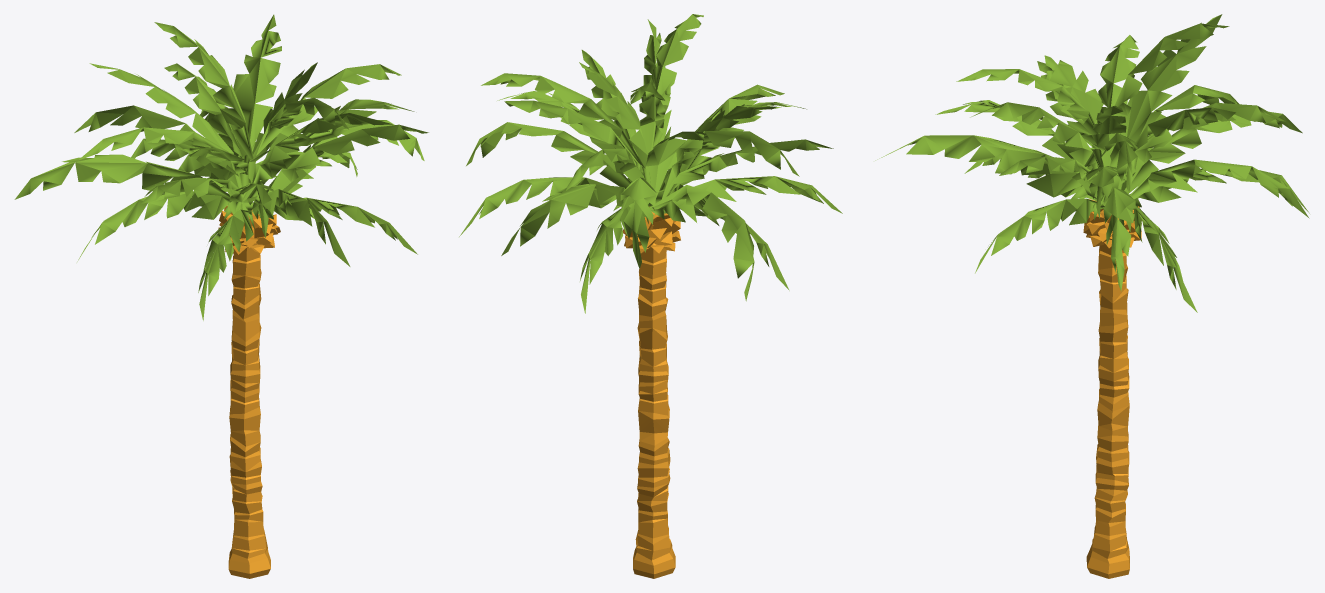
Rendered from SM_Tree_Palm_Canary_Date_A.fbx.
3 renders of one model, left to right at view 1: azimuth 30°, elevation 25°; view 2: azimuth 150°, elevation 25°; view 3: azimuth 270°, elevation 25°, orthographic. The views are drawn at different scales.
Parts seen in each view (by area): view 1: SM_Tree_Palm_Canary_Date_A; view 2: SM_Tree_Palm_Canary_Date_A; view 3: SM_Tree_Palm_Canary_Date_A.
Part boxes in pixels (x1,y1,x2,y2): SM_Tree_Palm_Canary_Date_A: (14, 14, 428, 578); SM_Tree_Palm_Canary_Date_A: (459, 14, 842, 578); SM_Tree_Palm_Canary_Date_A: (875, 14, 1309, 578).
Bounding box in the file's own units: 9.34 × 13.47 × 10.07.
